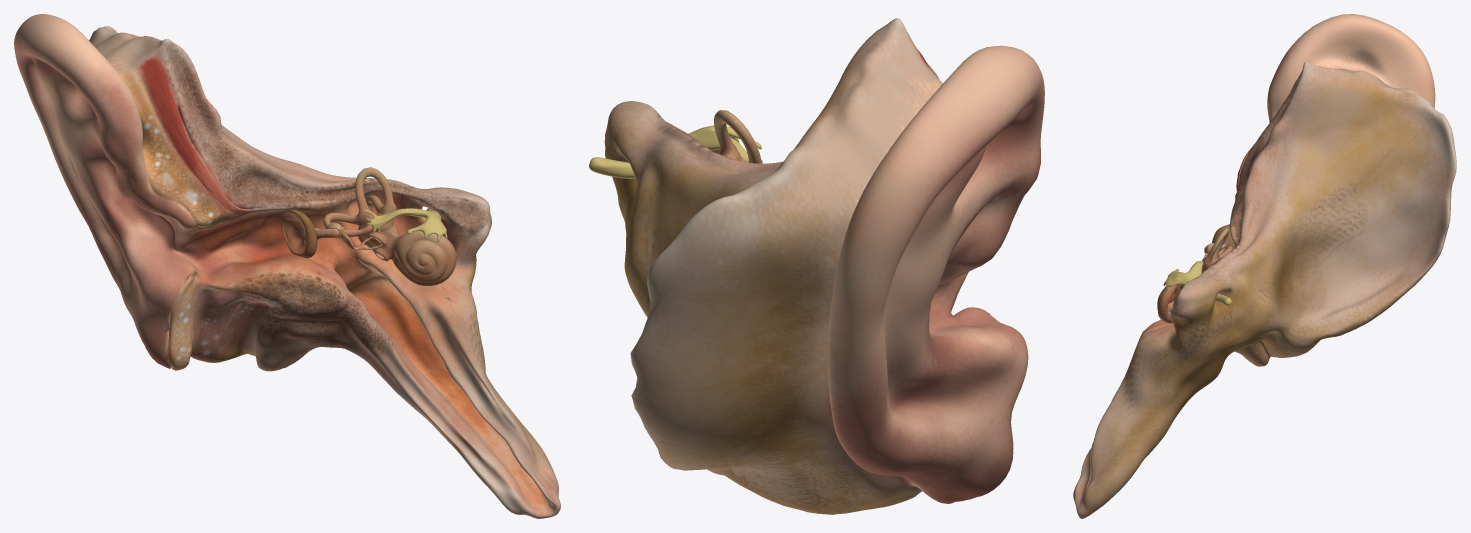
Rendered from adult_ear.glb.
3 views of the same model, side by side, from view 1: azimuth 30°, elevation 25°; view 2: azimuth 150°, elevation 25°; view 3: azimuth 270°, elevation 25° (orthographic). The views are drawn at different scales.
Visible parts, largest first — view 1: Ear, LabirynthEar, Tympanic_membrane, Vestibulocochlear_nerve, Ossicles; view 2: Ear, Vestibulocochlear_nerve, LabirynthEar; view 3: Ear, LabirynthEar, Vestibulocochlear_nerve.
Part boxes in pixels (bbox=[...]): Ear: bbox=[14, 14, 560, 518]; LabirynthEar: bbox=[323, 167, 456, 286]; Tympanic_membrane: bbox=[280, 209, 317, 258]; Vestibulocochlear_nerve: bbox=[364, 208, 447, 241]; Ossicles: bbox=[315, 222, 382, 249]; Ear: bbox=[604, 18, 1044, 514]; Vestibulocochlear_nerve: bbox=[589, 125, 762, 178]; LabirynthEar: bbox=[711, 110, 762, 163]; Ear: bbox=[1073, 14, 1456, 518]; LabirynthEar: bbox=[1157, 228, 1232, 323]; Vestibulocochlear_nerve: bbox=[1163, 261, 1231, 305].
Bounding box in the file's own units: 0.0342 × 0.0409 × 0.0382.
5 materials, 5 textured.
